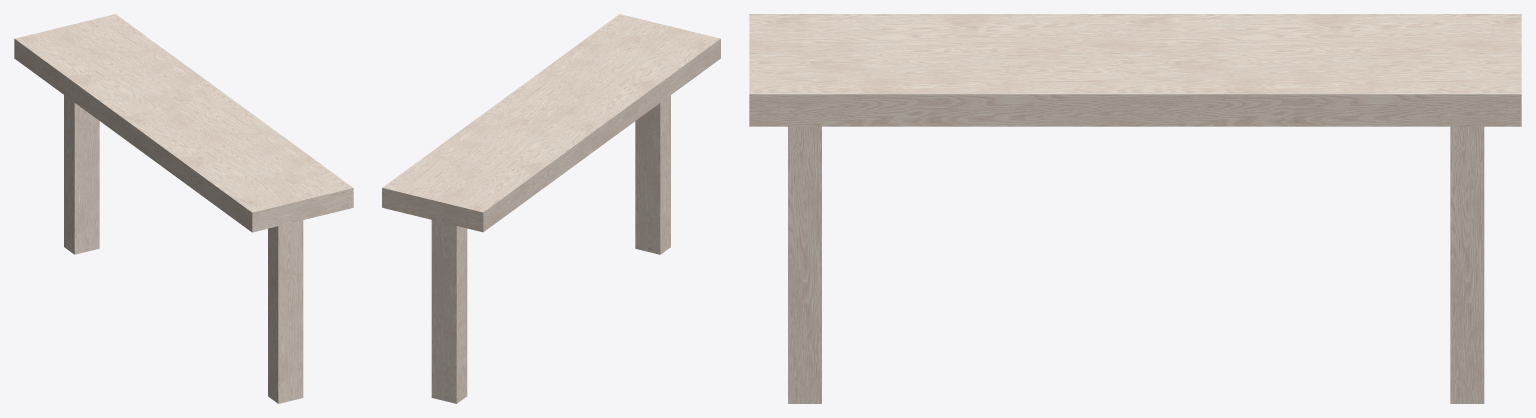
The model's file is LC_3175_Table_LOD1.fbx.
3 views of the same model, side by side, from view 1: azimuth 30°, elevation 25°; view 2: azimuth 150°, elevation 25°; view 3: azimuth 270°, elevation 25° (orthographic). The views are drawn at different scales.
Parts seen in each view (by area): view 1: LC_3175_Table_1LOD; view 2: LC_3175_Table_1LOD; view 3: LC_3175_Table_1LOD.
Part boxes in pixels (left/top/right/bottom): LC_3175_Table_1LOD: left=14, top=14, right=353, bottom=403; LC_3175_Table_1LOD: left=382, top=14, right=720, bottom=403; LC_3175_Table_1LOD: left=749, top=14, right=1521, bottom=403.
Size of the model in its own units: 32 by 63.15 by 130.
1 material, 1 textured.
